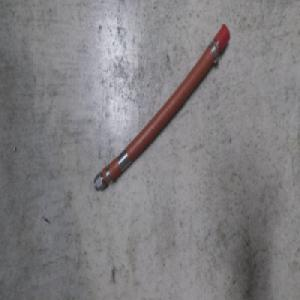Hose: (92, 20, 232, 192)
